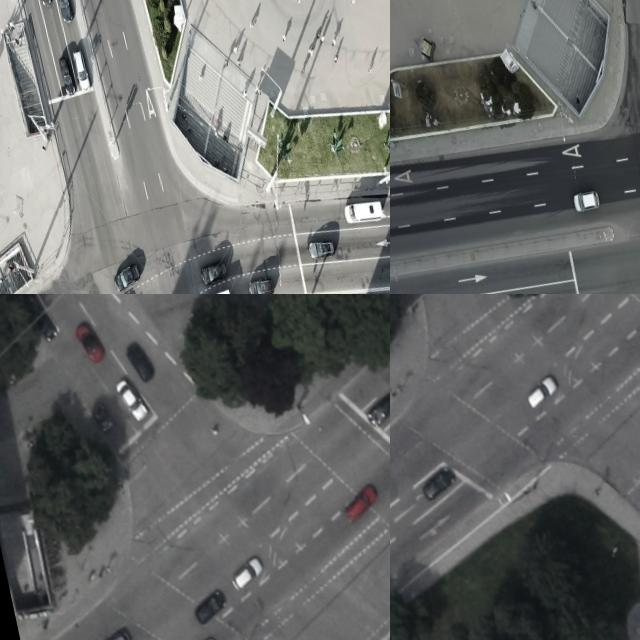UAI: (112, 373, 150, 426), (338, 481, 383, 525), (225, 554, 267, 595), (71, 318, 106, 367), (122, 338, 156, 386), (418, 465, 459, 503), (522, 373, 561, 411), (190, 588, 229, 625), (361, 390, 390, 430), (31, 307, 59, 344), (112, 261, 144, 291), (71, 47, 90, 92), (90, 401, 115, 434), (57, 55, 76, 96), (571, 188, 601, 213), (87, 626, 136, 640), (199, 261, 228, 283), (307, 238, 335, 260), (246, 275, 274, 294), (504, 294, 541, 300)
harvester: (342, 197, 383, 226), (204, 287, 233, 294)
